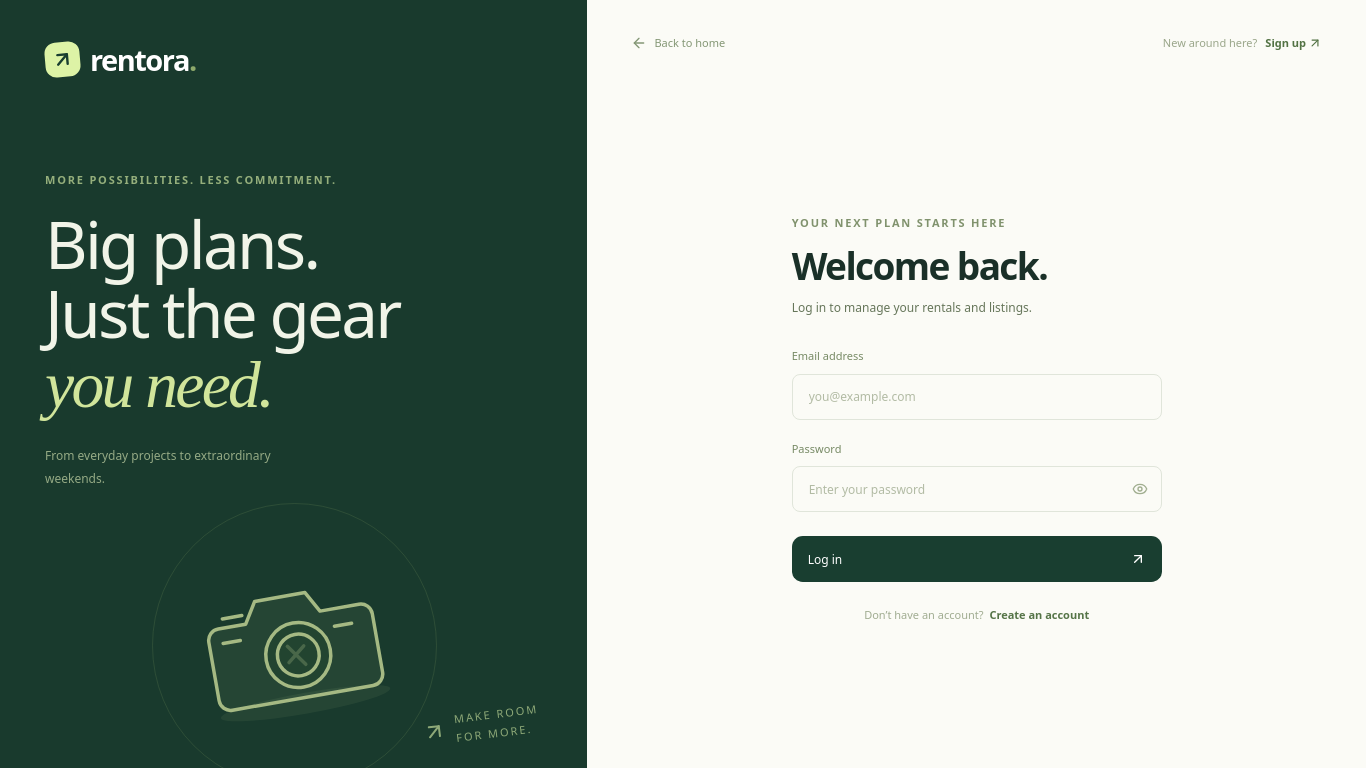
Rentora URL routes and account flows › signs in from the login URL and navigates to the customer dashboard
The width and height of the screenshot is (1366, 768).
Step 1. Type "user@example.com" into the field labelled "Email address" → (977, 397), box x1=792 y1=374 x2=1162 y2=420
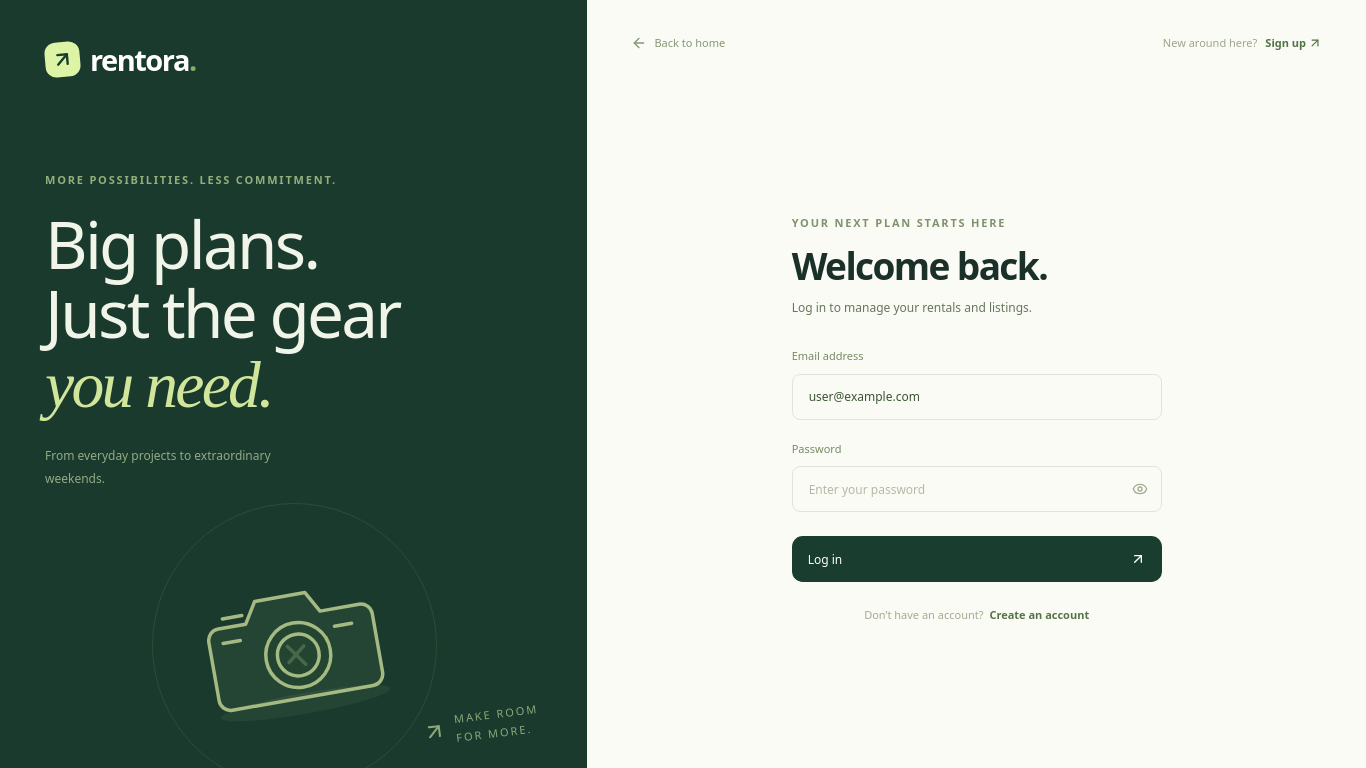
Step 2. Type "Password@123" into the password field labelled "Password" → (977, 490), box x1=792 y1=466 x2=1162 y2=512
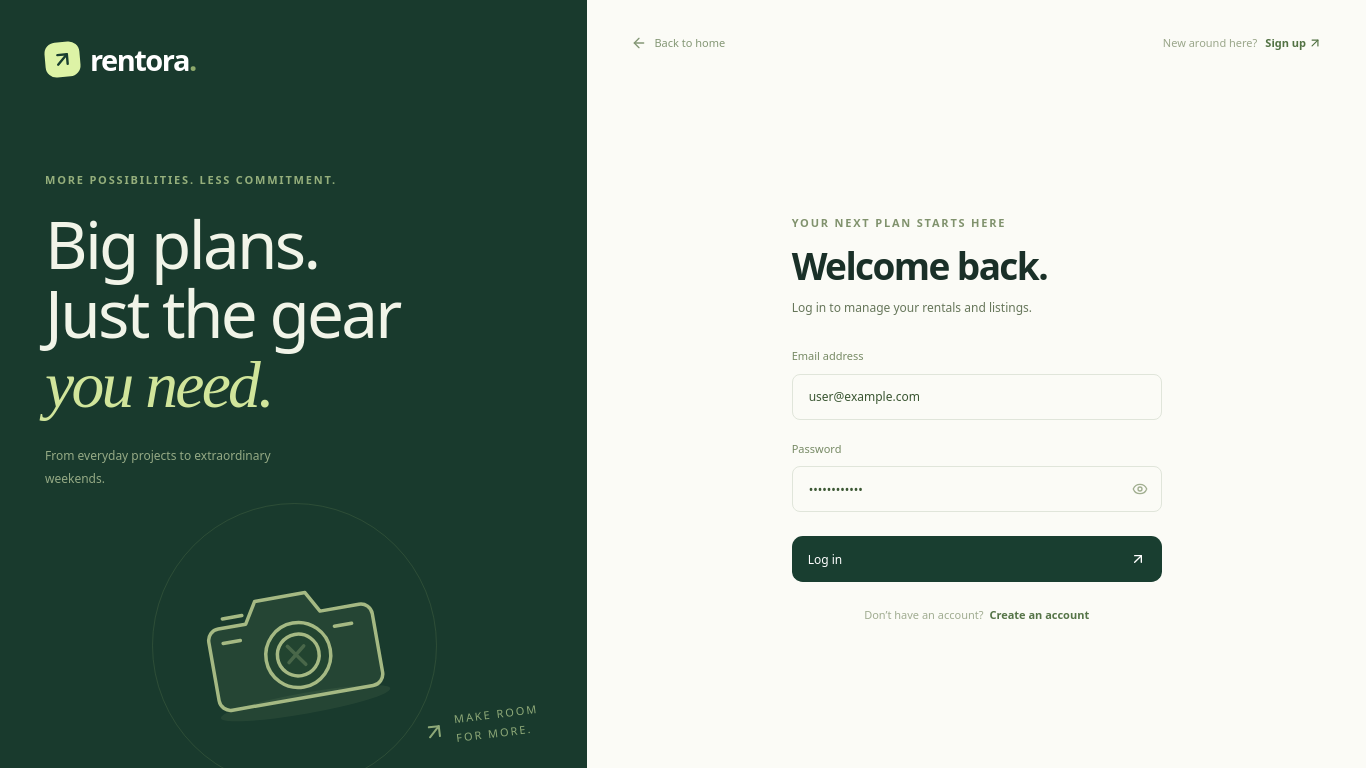
Step 3. Click the button "Log in" → (825, 559), box x1=792 y1=536 x2=1162 y2=582
(page scrolled)
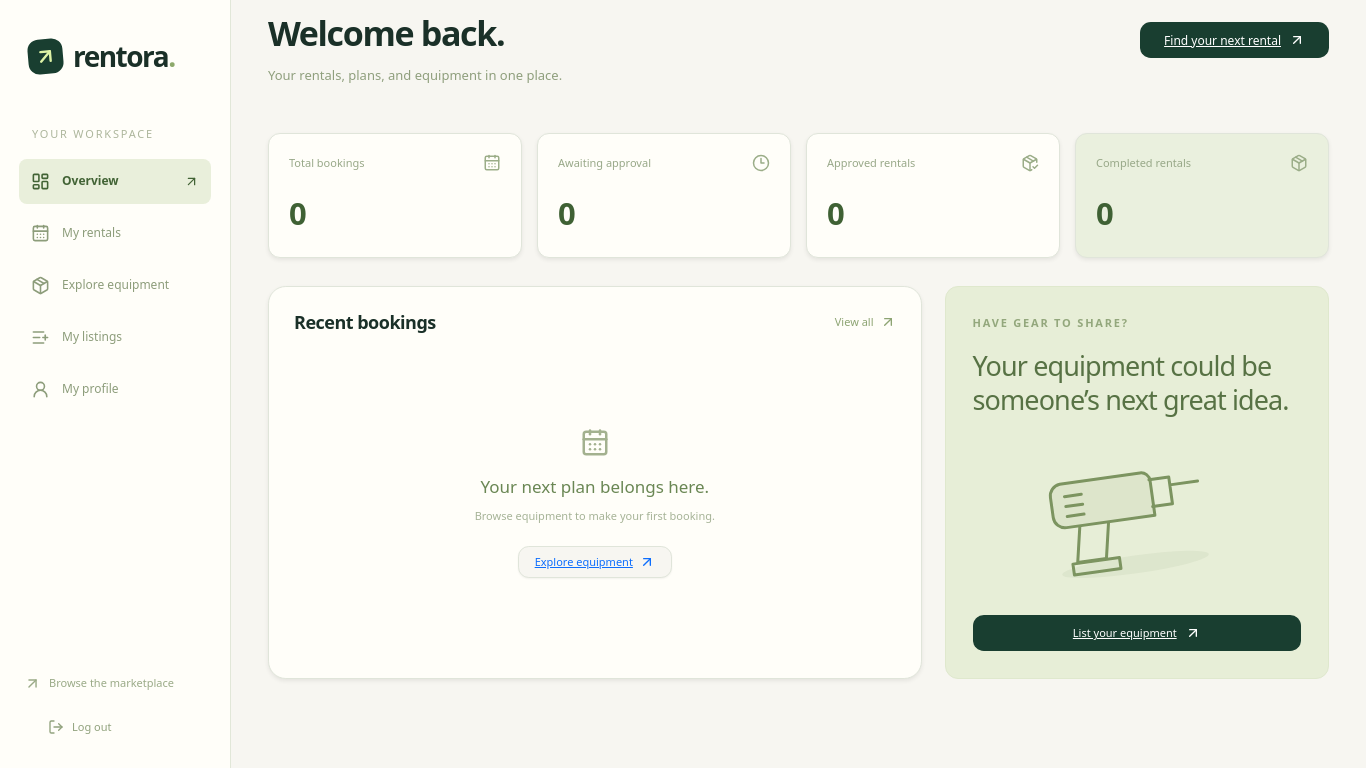
Now the heading "Welcome back." is shown, box x1=268 y1=10 x2=504 y2=56
